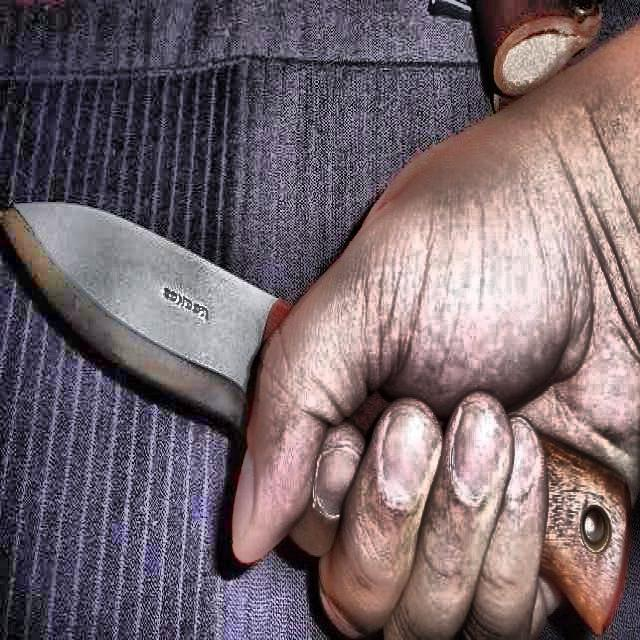knife: (16, 204, 630, 632)
